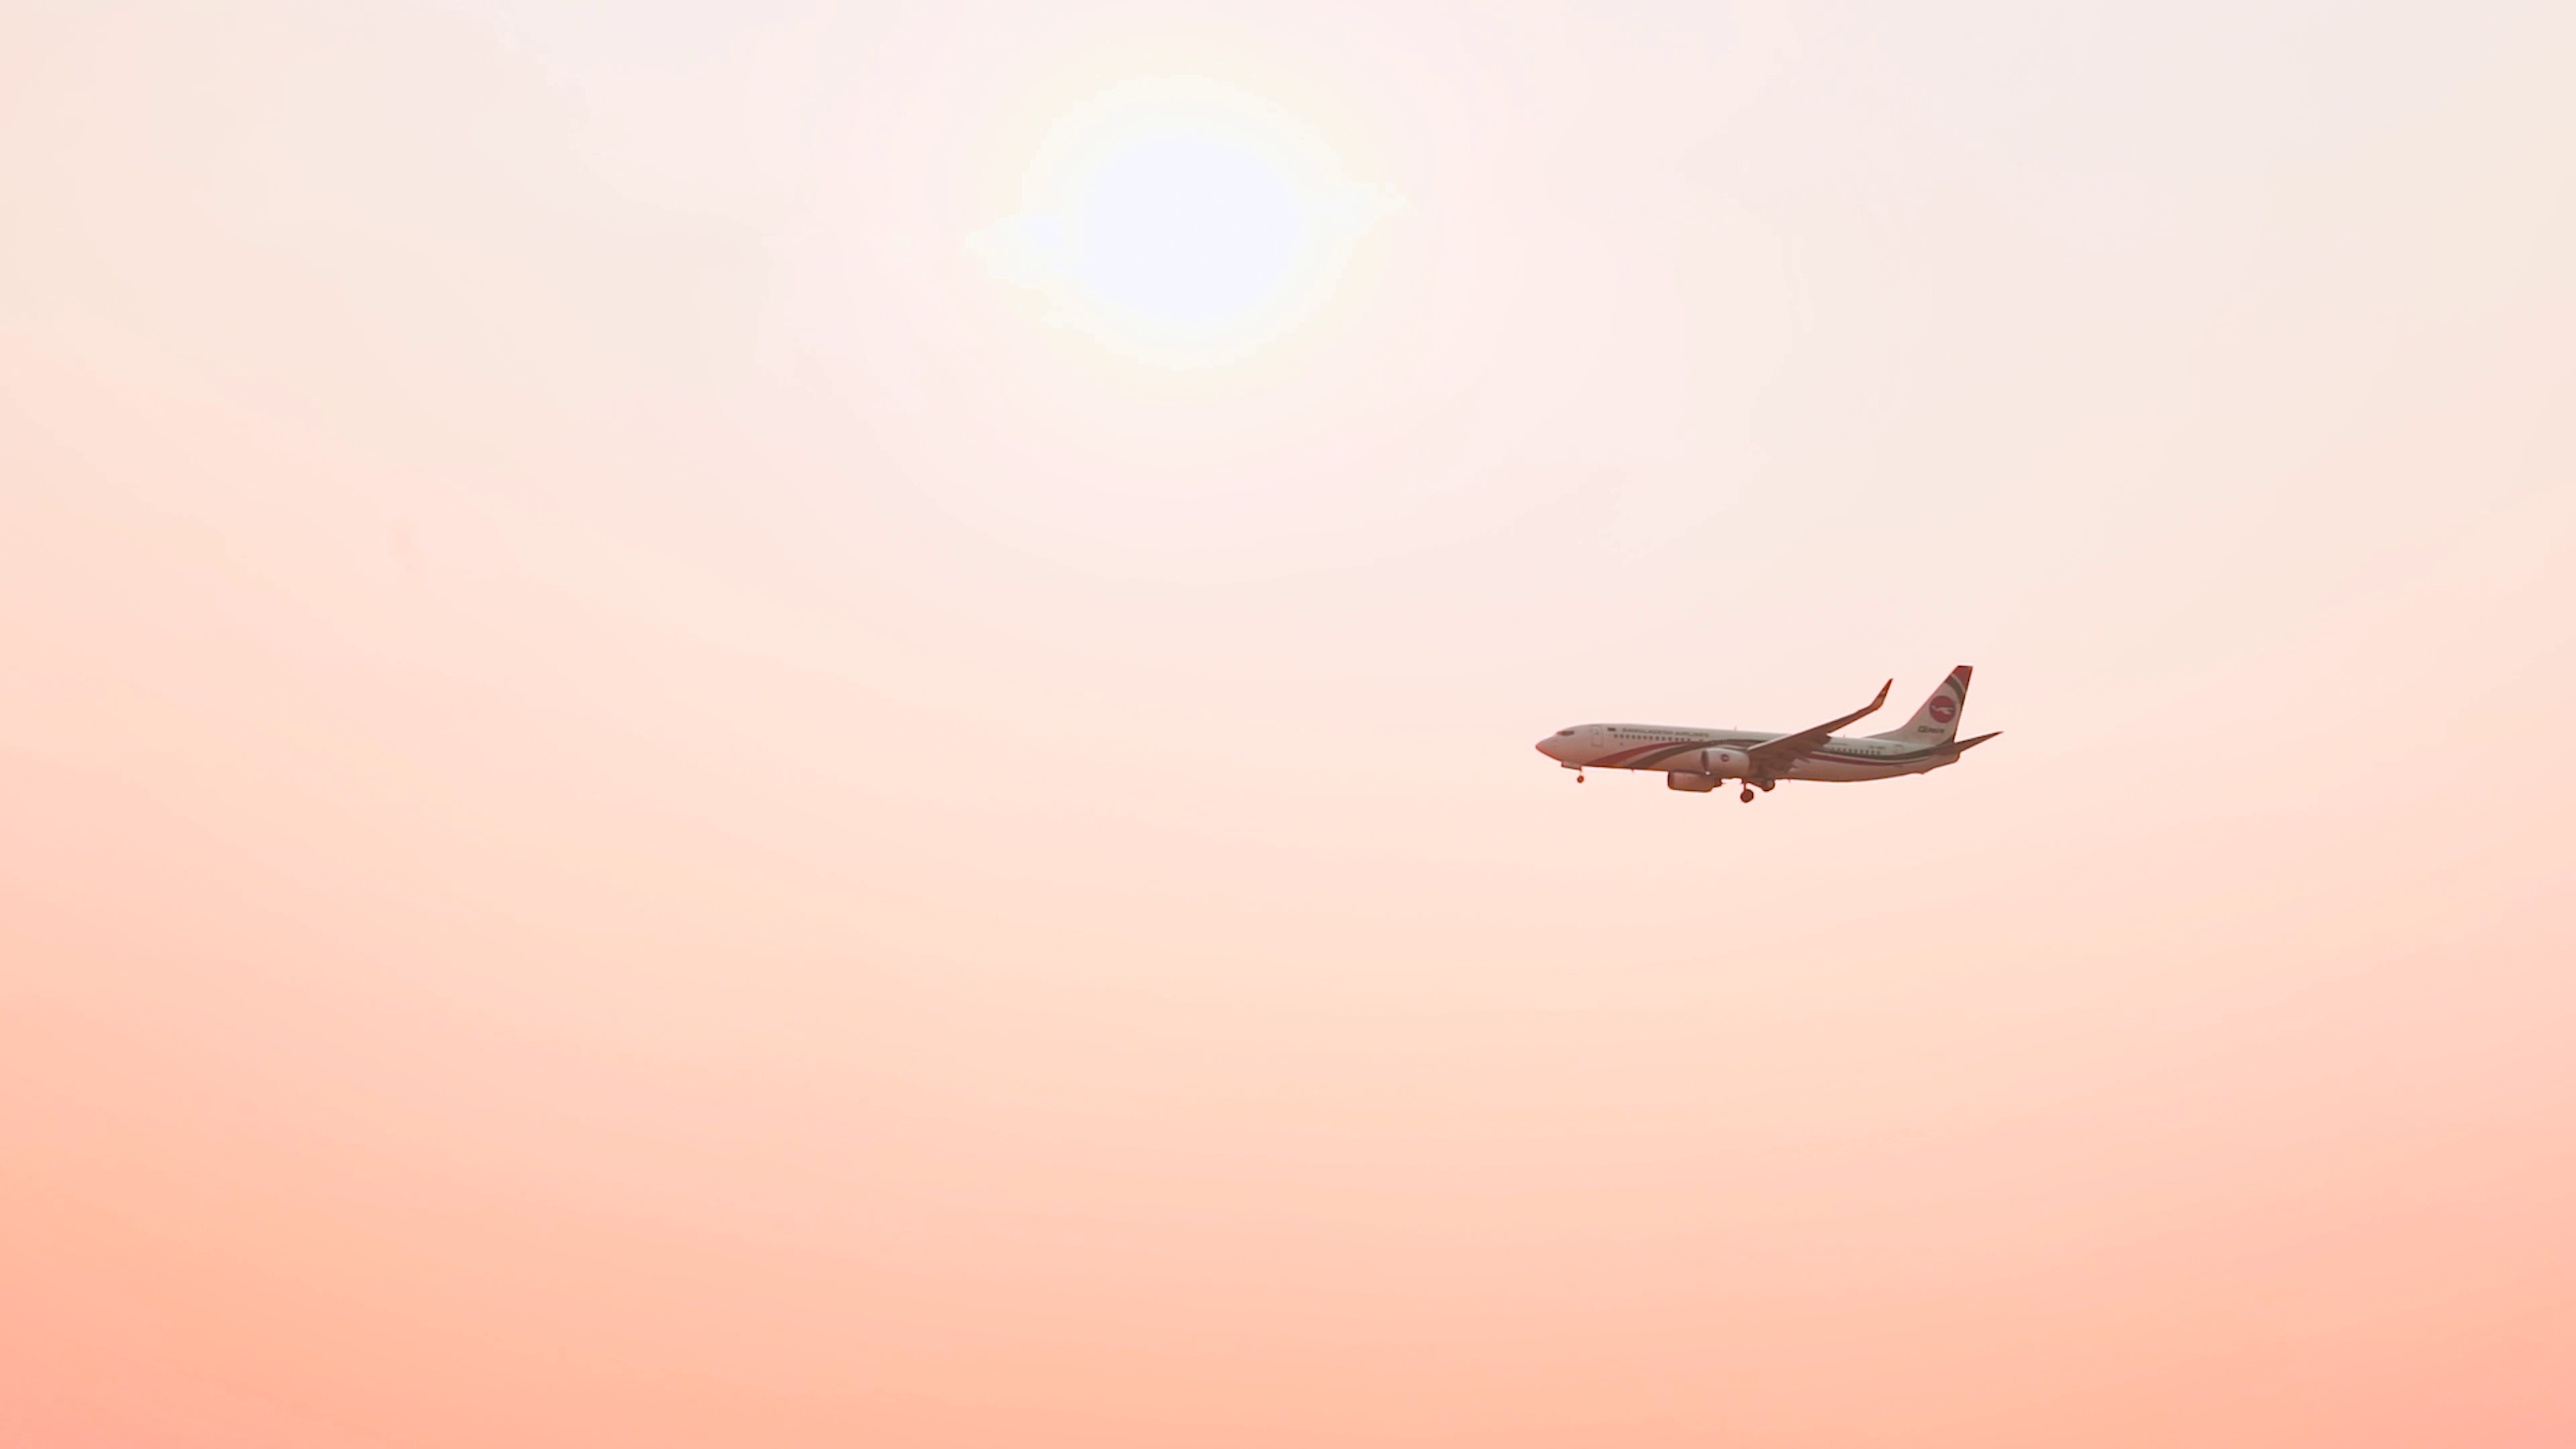plane: (1536, 665, 2003, 801)
